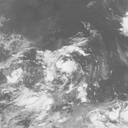cyclone: (43, 45, 91, 89)
